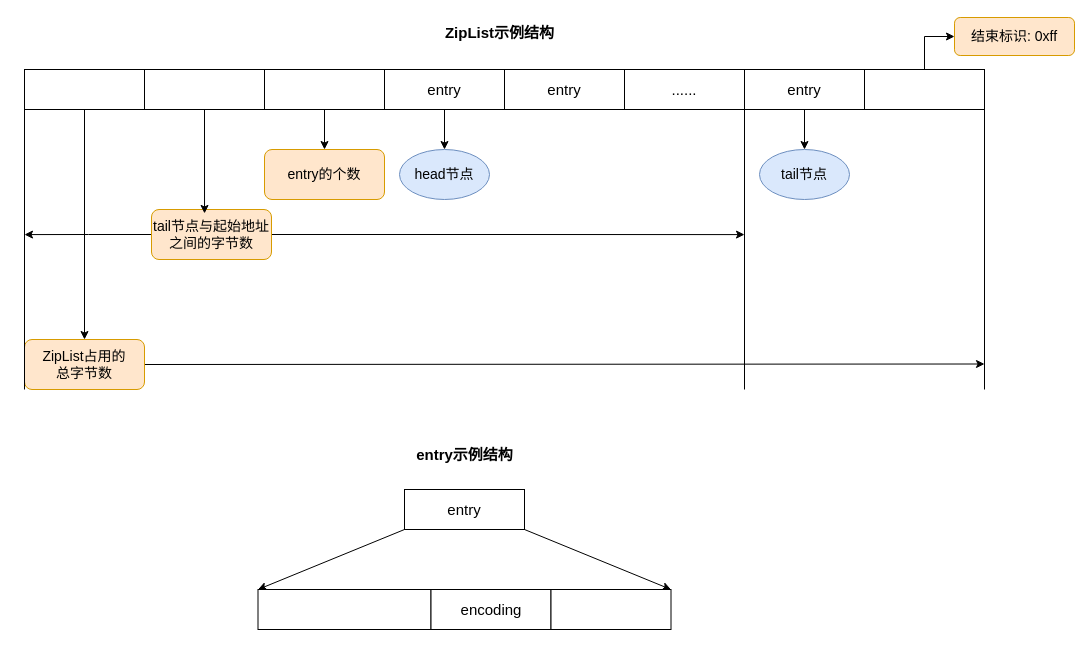
Some shapes in this 1092 by 647 pixel diagram are drawn without their labels. Each missing label, with the centre of its shape:
content: point (610, 609)
previous_entry_length: point (344, 609)
zlbytes: point (84, 89)
zlend: point (924, 89)
zllen: point (324, 89)
zltail: point (204, 89)
